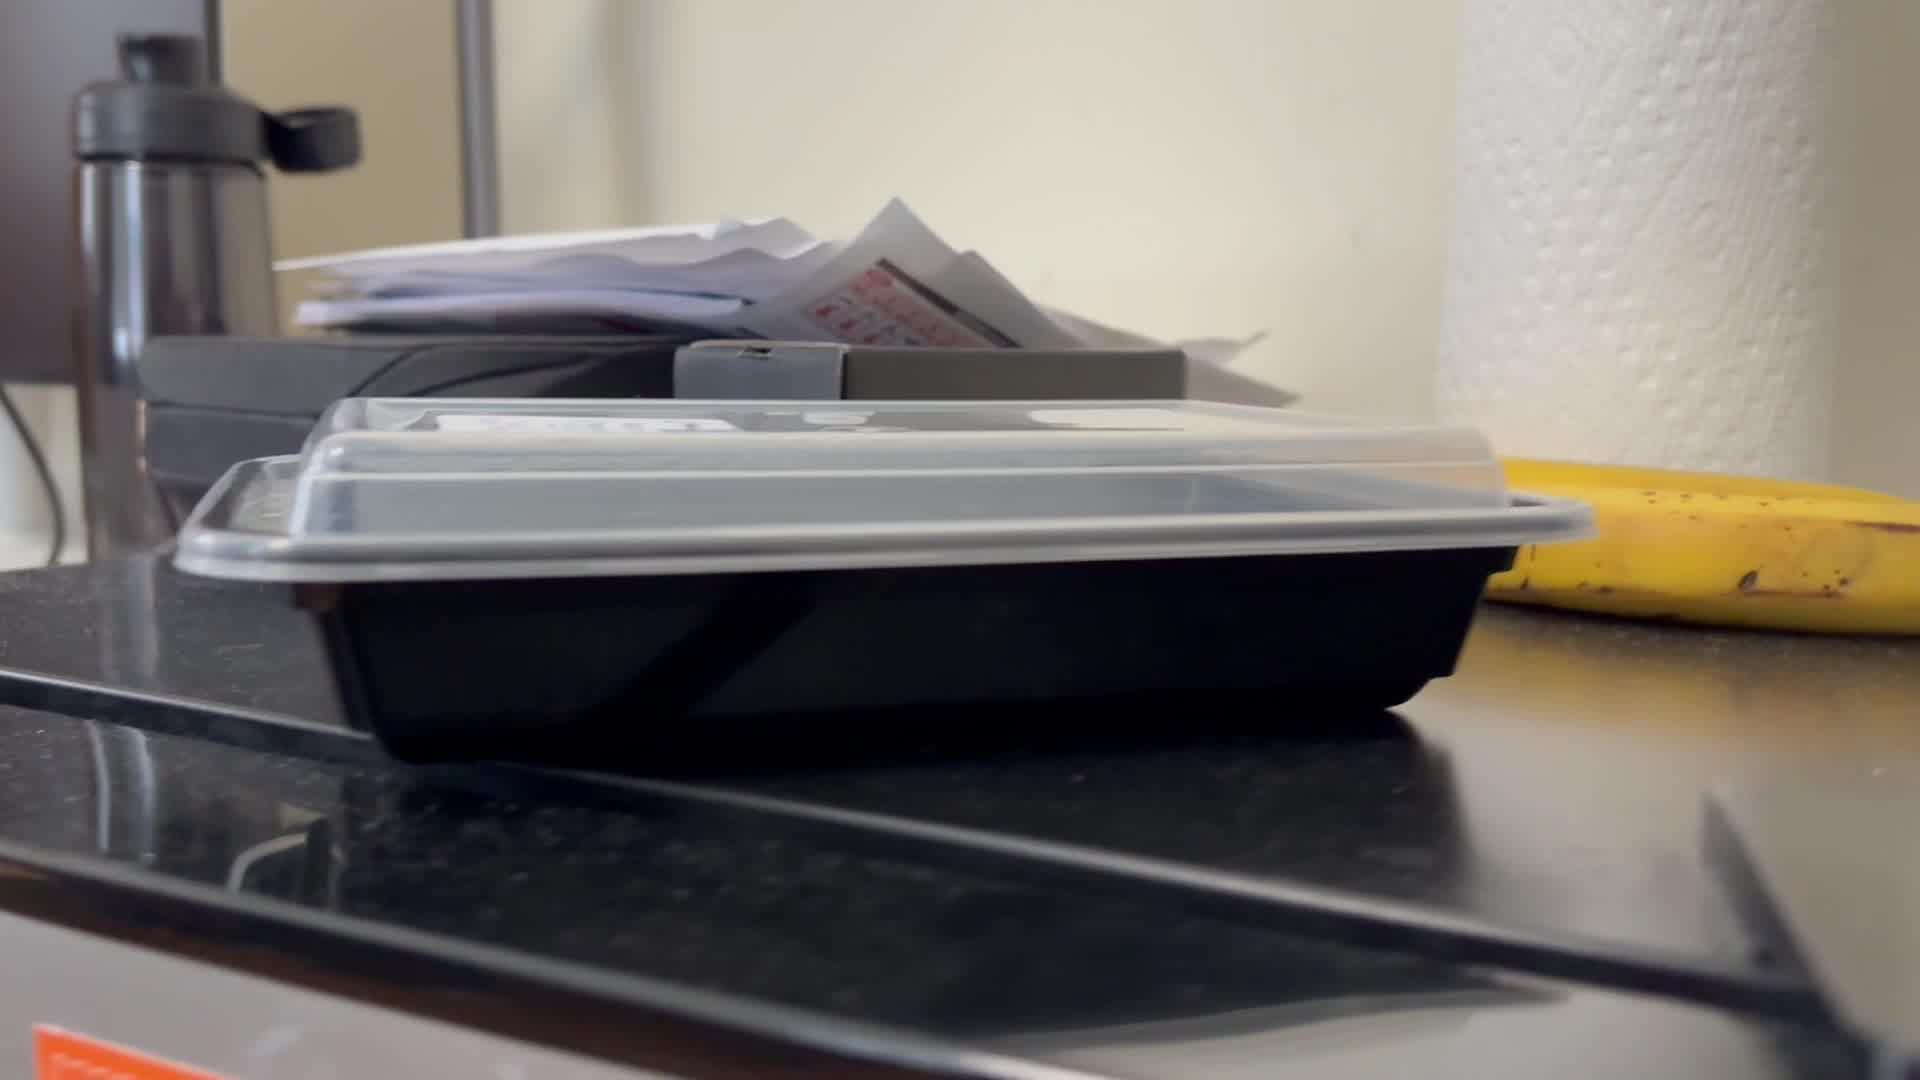lp_cup_lids: (171, 386, 1607, 750)
